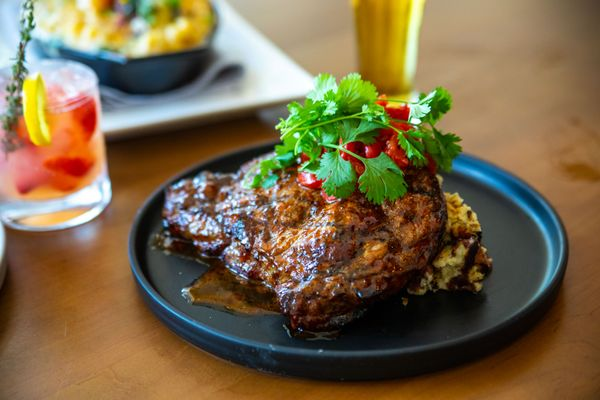sushi: (20, 0, 219, 94)
